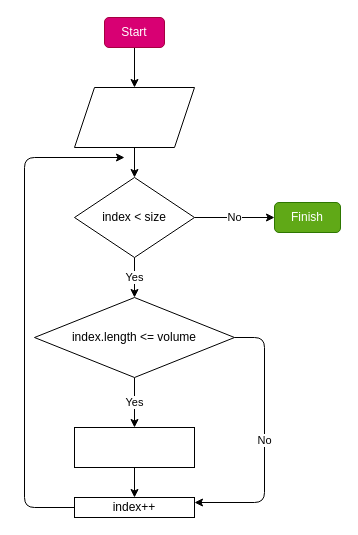
This 358x535 diagram has some shape labels left out. The shapes that lost their labels are listed below. From the top down, each one's box as (x1, y1, x2, y2) in pixels, then its label:
(74, 86, 194, 148): array (size) index (length) index = 0 volume = 3
(74, 426, 194, 468): Print/output
